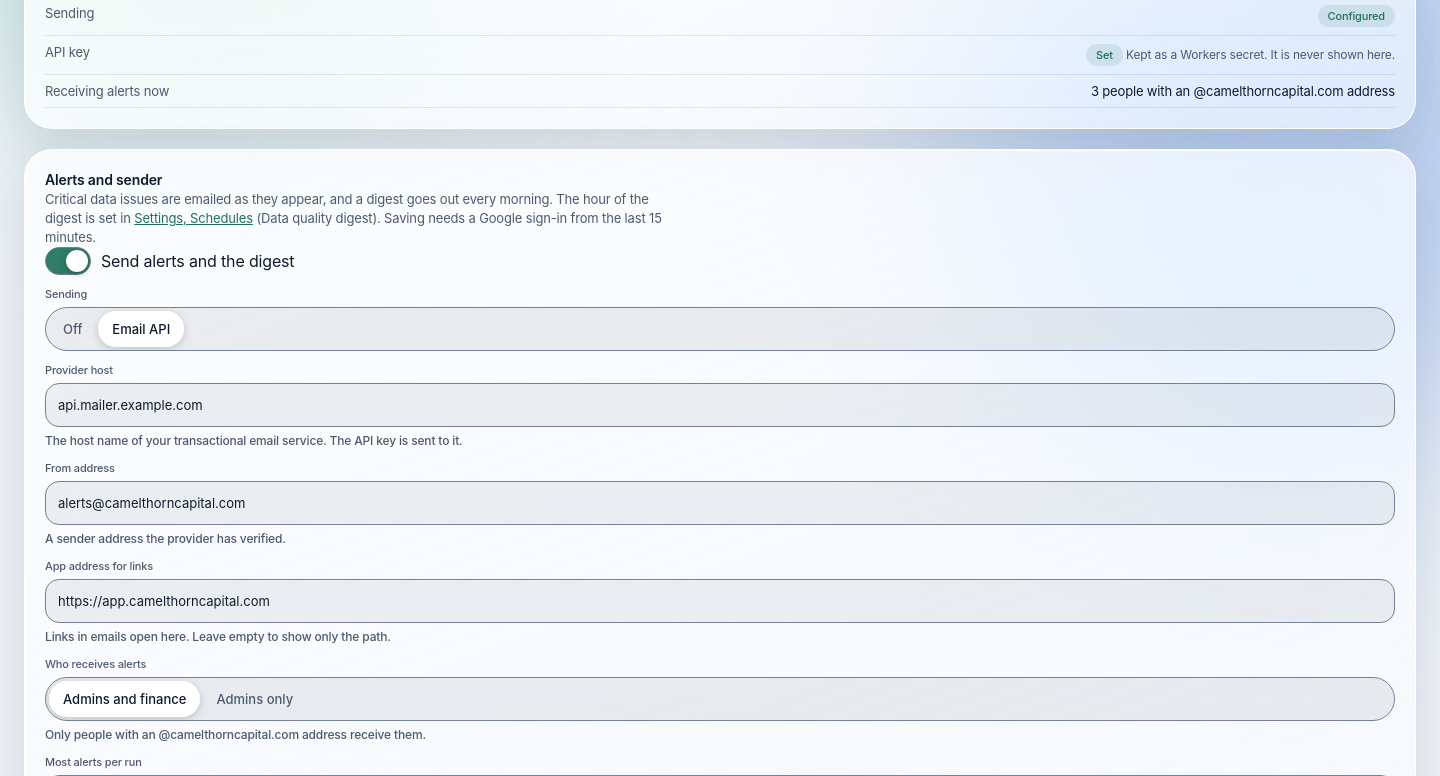
the host confirmation cannot be skipped › a direct form submit (no click on Save) still asks first
(page scrolled)
Expected: the heading "Alerts and sender" is shown, [45,171,162,188]
Replace the text in the 1st field with "mail.other.example.org" at (720, 405), box [45,383,1395,427]
(page scrolled)
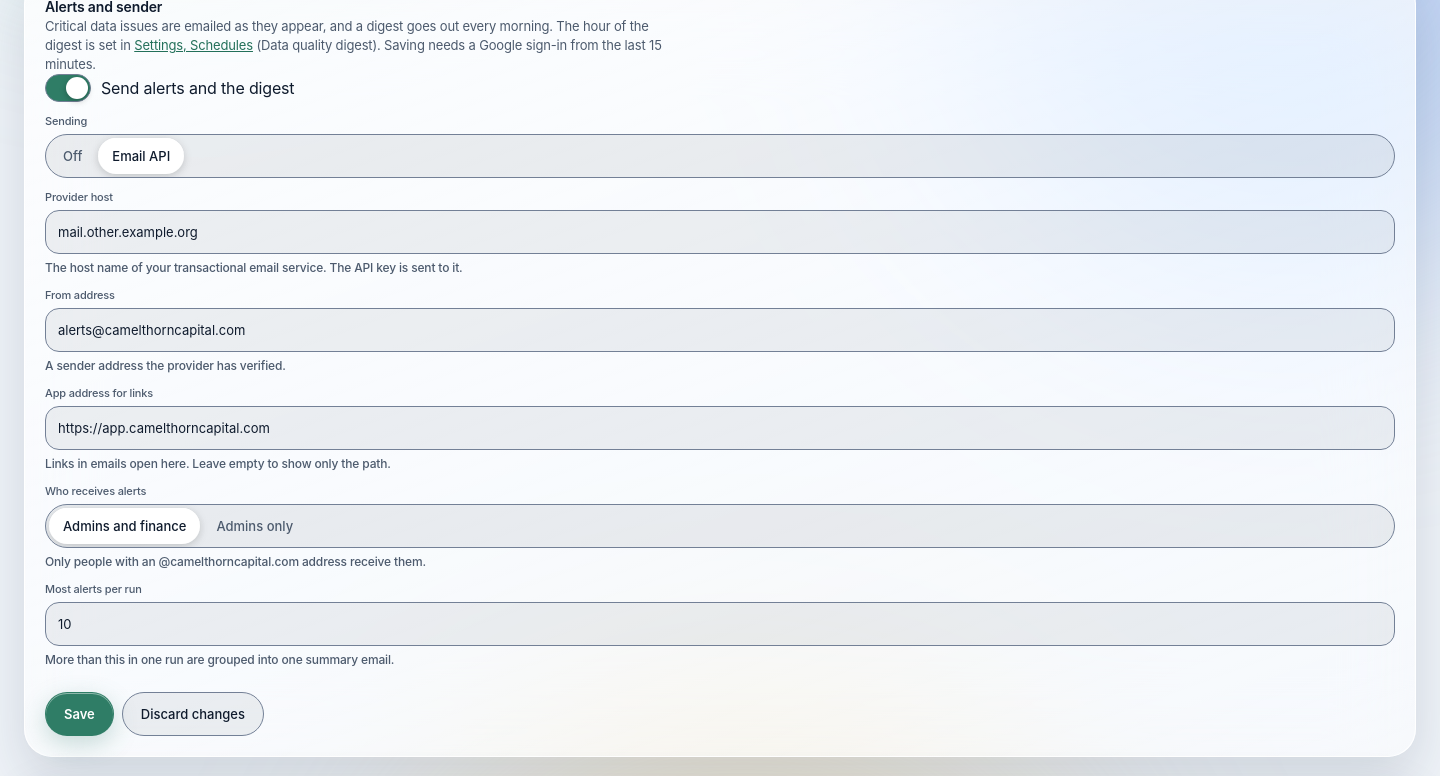
Submit the form named "Save"
(page scrolled)
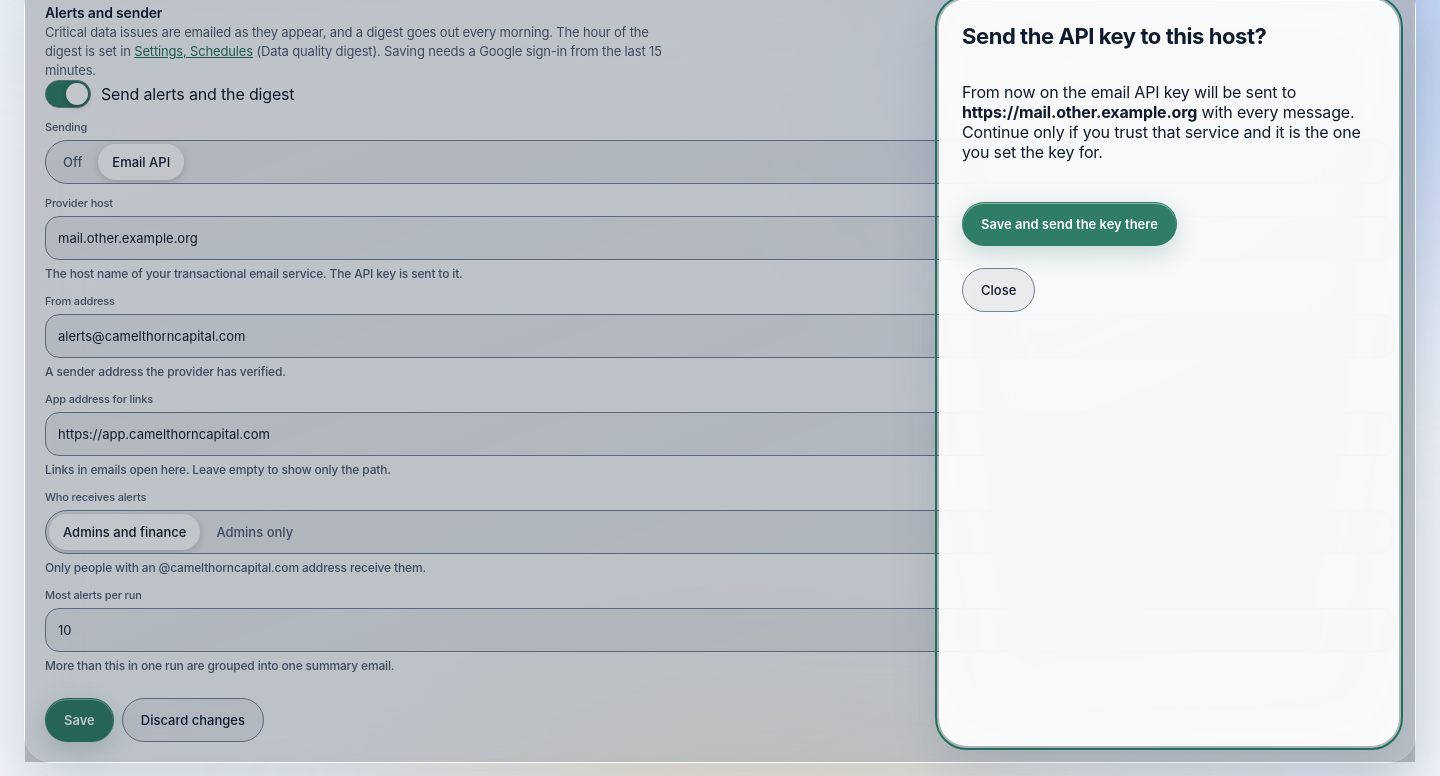
Now the dialog is shown, box [939,0,1399,746]
